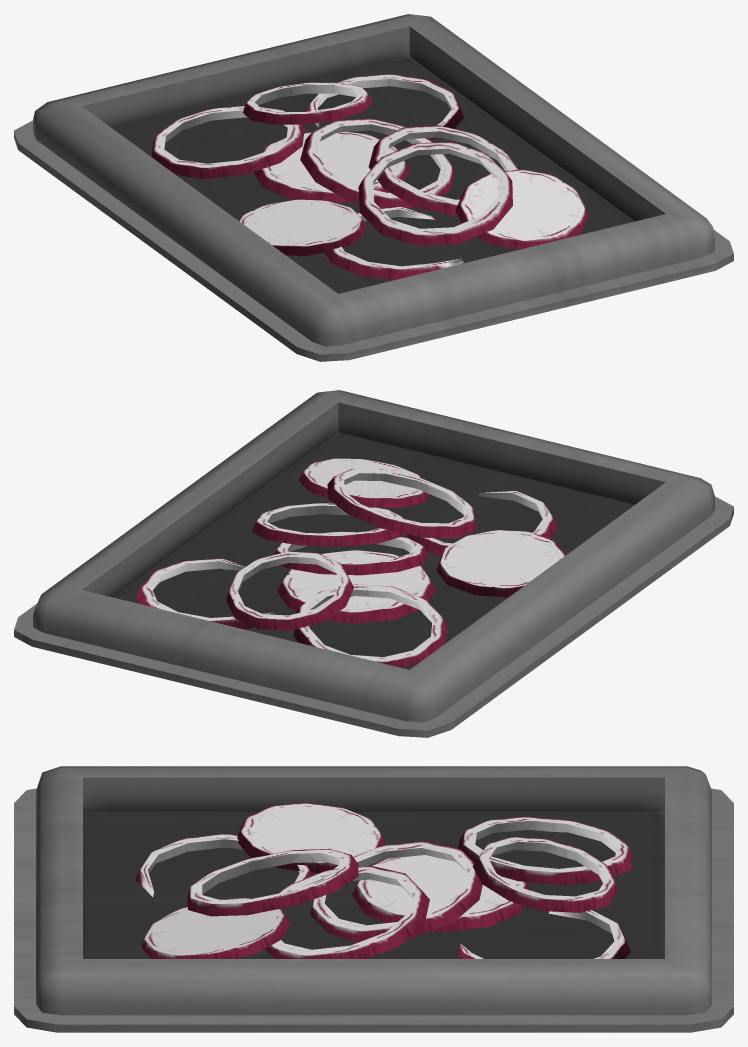
File: rack_onion.FBX
3 renders of one model, top to bottom at view 1: azimuth 30°, elevation 25°; view 2: azimuth 150°, elevation 25°; view 3: azimuth 270°, elevation 25°, orthographic. The views are drawn at different scales.
Parts seen in each view (by area): view 1: rack_onion; view 2: rack_onion; view 3: rack_onion.
Boxes of the visible parts, box(x1,y1,x2,y2) form: rack_onion: box(14, 14, 733, 361); rack_onion: box(14, 390, 733, 737); rack_onion: box(14, 766, 733, 1032).
Bounding box in the file's own units: 22.34 × 2.82 × 28.36.
